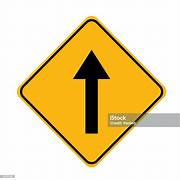forward: (16, 16, 167, 166)
